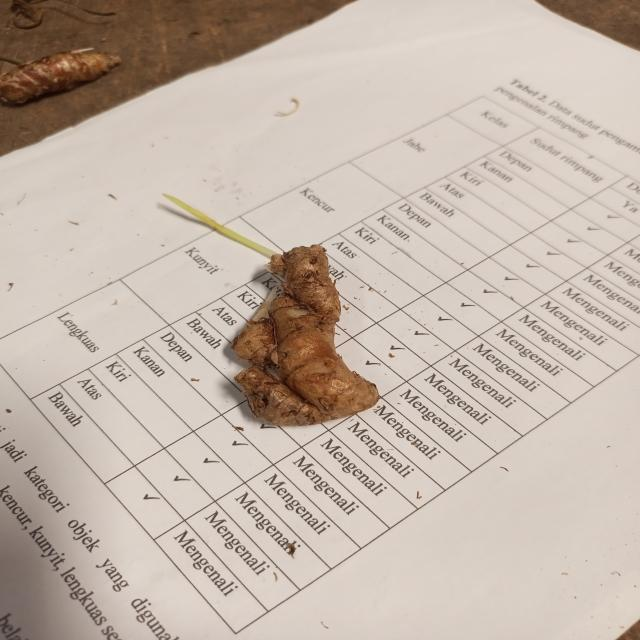ginger: (237, 245, 381, 418)
